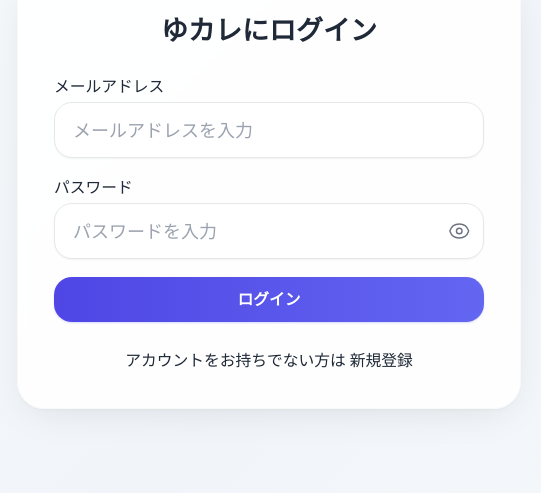
Test: AuthForm › login mode › validation › should show error when email is empty
Step 1. Click the button "ログイン" → click(269, 300), box [54,277,484,322]
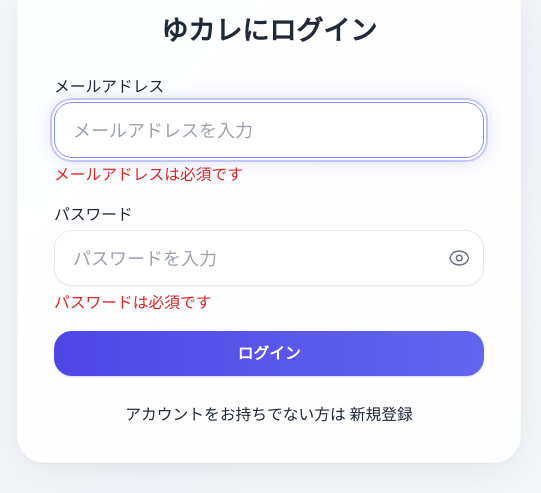
Now the text "メールアドレスは必須です" is shown, box [54,162,243,184]
